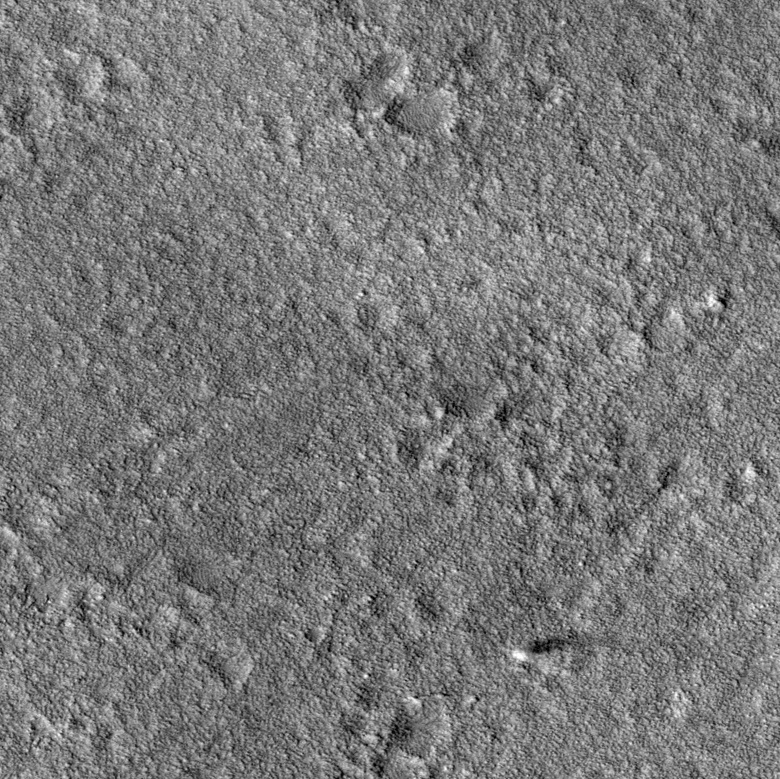dust_devil: (511, 631, 587, 663)
